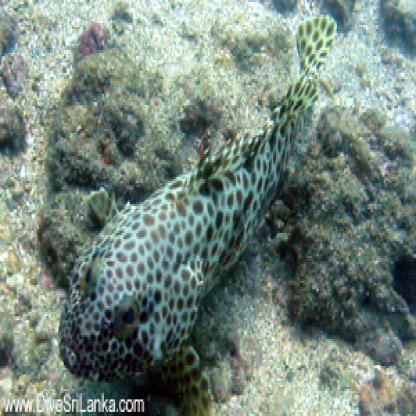Bio: (53, 8, 344, 414)
